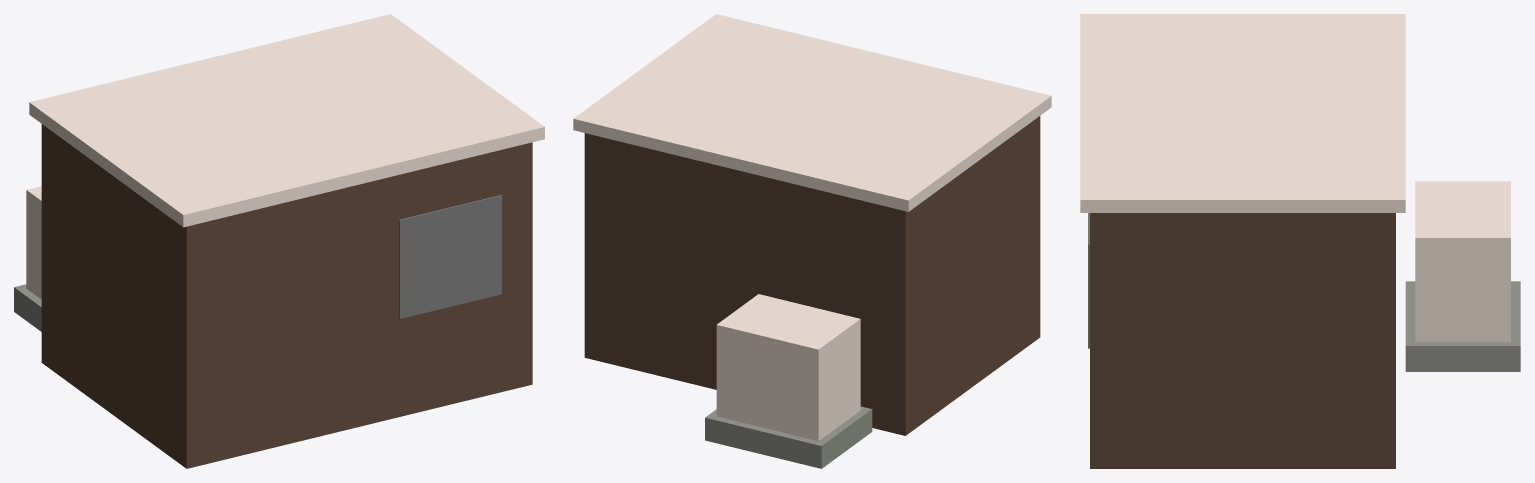
Rendered from roofprop.fbx.
3 views of the same model, side by side, from view 1: azimuth 30°, elevation 25°; view 2: azimuth 150°, elevation 25°; view 3: azimuth 270°, elevation 25° (orthographic). The views are drawn at different scales.
Parts seen in each view (by area): view 1: a2001/800/roofprop; view 2: a2001/800/roofprop; view 3: a2001/800/roofprop.
Part boxes in pixels (left/top/right/bottom): a2001/800/roofprop: left=14, top=14, right=544, bottom=468; a2001/800/roofprop: left=573, top=14, right=1051, bottom=468; a2001/800/roofprop: left=1080, top=14, right=1520, bottom=468.
Bounding box in the file's own units: 4.6 × 3.15 × 4.6.
